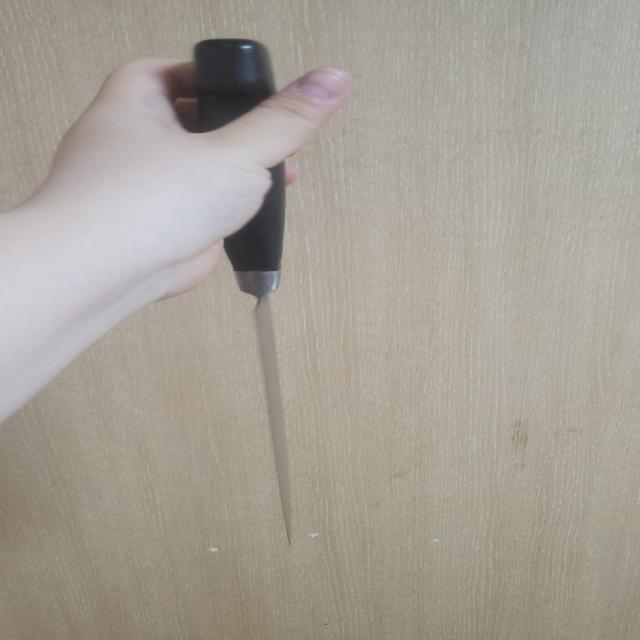knife: (194, 38, 290, 546)
